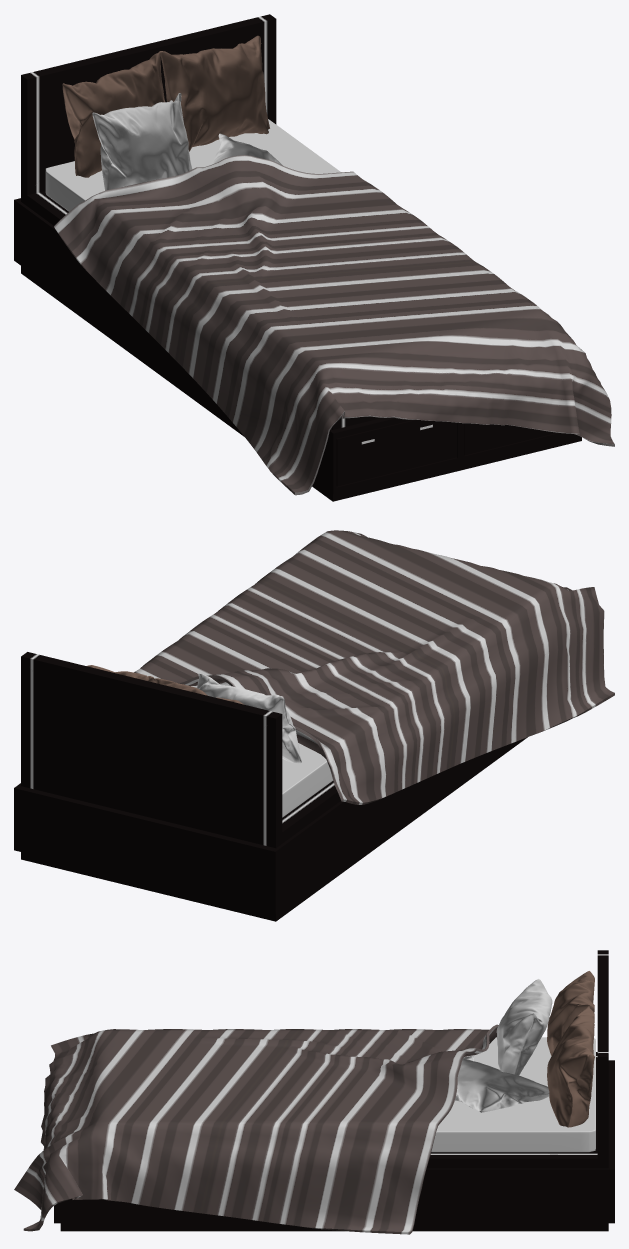
Rendered from twinxl.fbx.
3 renders of one model, top to bottom at view 1: azimuth 30°, elevation 25°; view 2: azimuth 150°, elevation 25°; view 3: azimuth 270°, elevation 25°, orthographic. The views are drawn at different scales.
Visible parts, largest first — view 1: Bed; view 2: Bed; view 3: Bed.
Boxes of the visible parts, <box> form: Bed: <box>14,14,614,501</box>; Bed: <box>14,530,614,921</box>; Bed: <box>14,950,614,1234</box>.
Size of the model in its own units: 96.5 by 61 by 190.
Materials: 1 (1 with a texture image).
